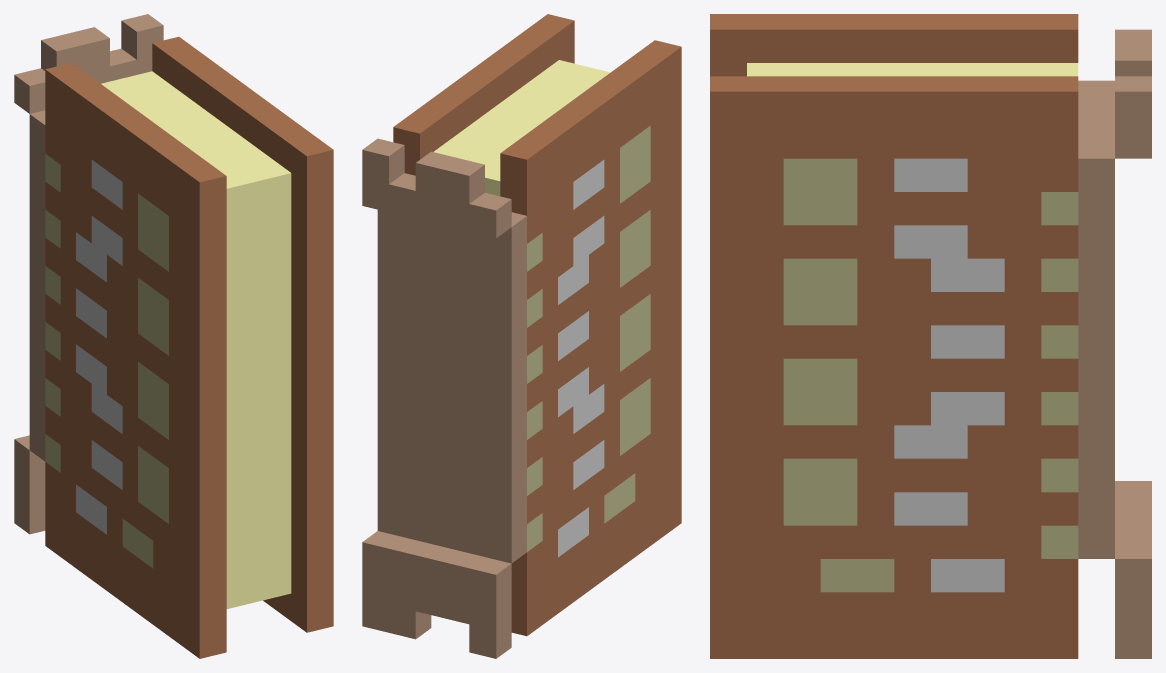
Rendered from book.obj.
3 renders of one model, left to right at view 1: azimuth 30°, elevation 25°; view 2: azimuth 150°, elevation 25°; view 3: azimuth 270°, elevation 25°, orthographic. The views are drawn at different scales.
Size of the model in its own units: 0.5 by 1.7 by 1.2.
Materials: 1 (1 with a texture image).
